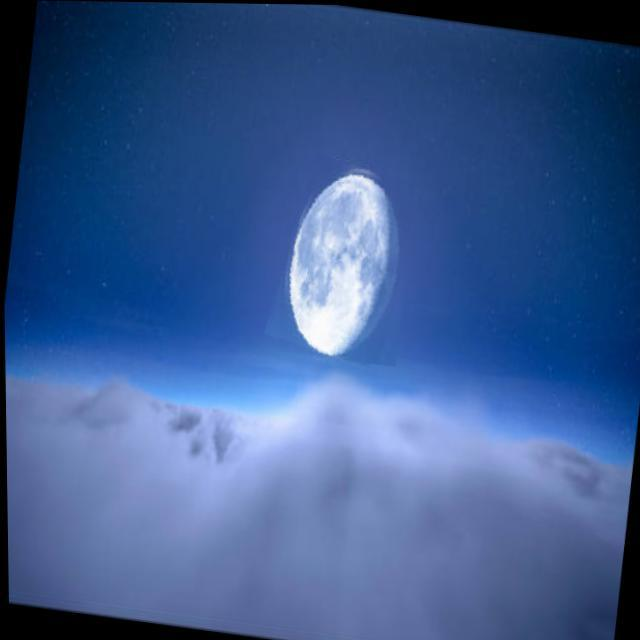moon: (266, 152, 418, 366)
